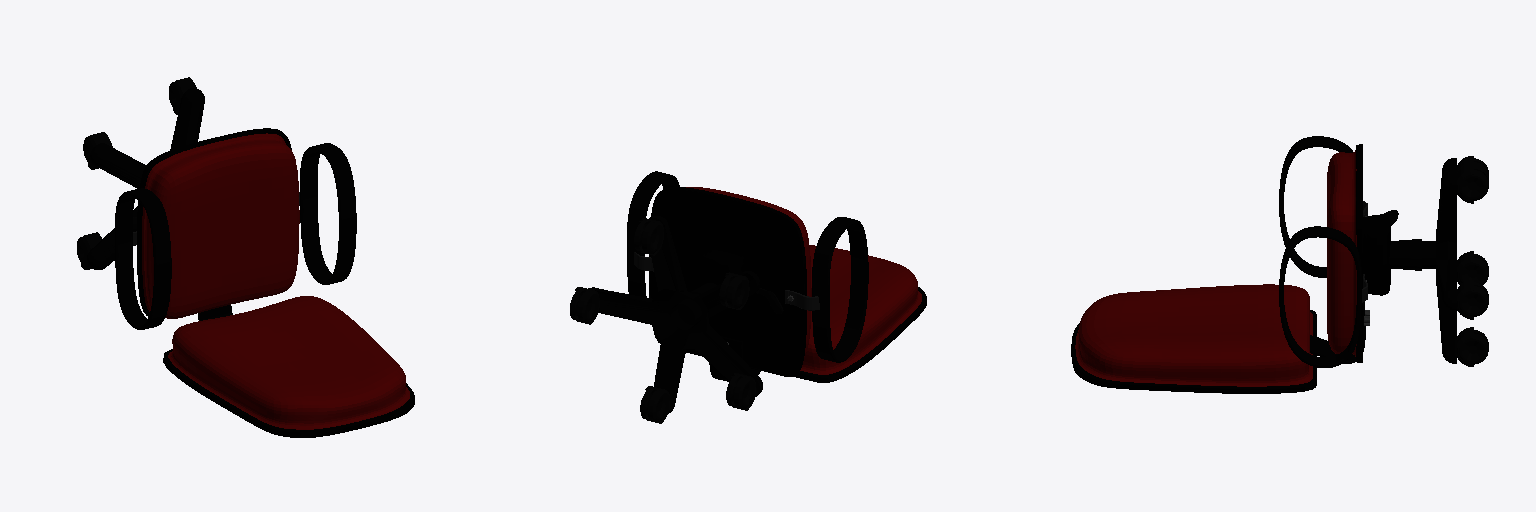
Rendered from swivel_chair_.obj.
3 views of the same model, side by side, from view 1: azimuth 30°, elevation 25°; view 2: azimuth 150°, elevation 25°; view 3: azimuth 270°, elevation 25° (orthographic).
Visible parts, largest first — view 1: swivel_chair_, swivel_chair_DOWN; view 2: swivel_chair_, swivel_chair_DOWN; view 3: swivel_chair_, swivel_chair_DOWN.
Part boxes in pixels (bbox=[...]): swivel_chair_: bbox=[115, 128, 414, 437]; swivel_chair_DOWN: bbox=[77, 77, 204, 269]; swivel_chair_: bbox=[627, 171, 926, 382]; swivel_chair_DOWN: bbox=[570, 216, 762, 423]; swivel_chair_: bbox=[1071, 136, 1398, 393]; swivel_chair_DOWN: bbox=[1389, 156, 1488, 366].
Bounding box in the file's own units: 0.3832 × 0.3638 × 0.6851.